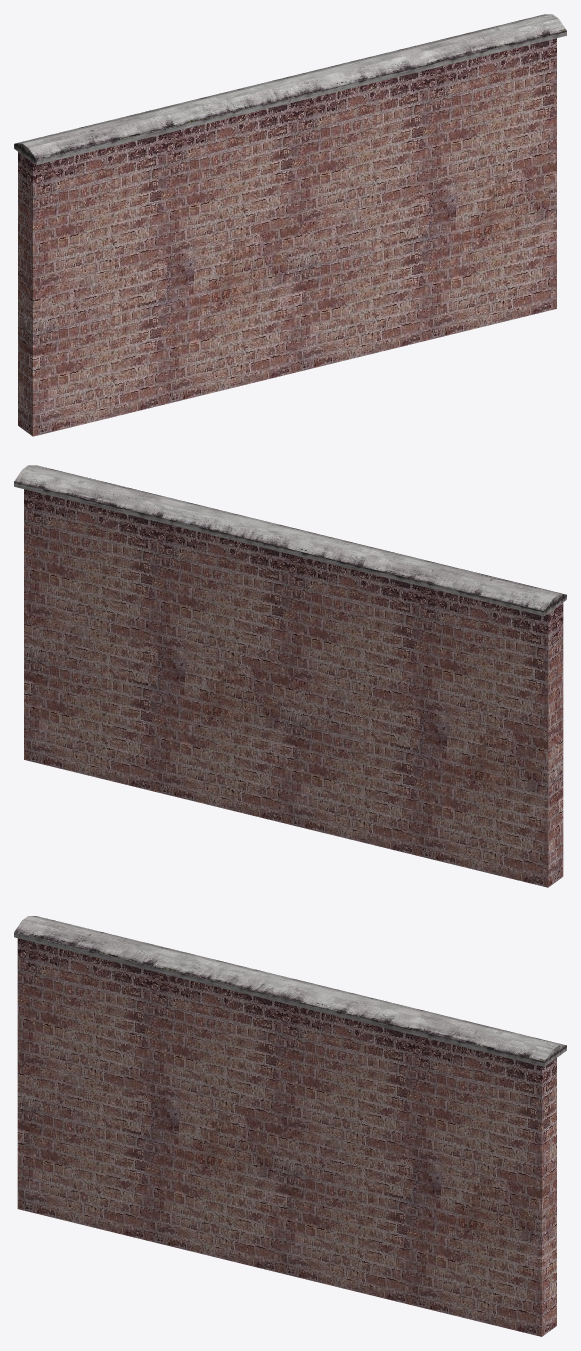
File: lf_brick_wall_one_overhang.glb
3 renders of one model, top to bottom at view 1: azimuth 30°, elevation 25°; view 2: azimuth 150°, elevation 25°; view 3: azimuth 330°, elevation 25°, orthographic.
Visible parts, largest first — view 1: brick_wall_one_overhang; view 2: brick_wall_one_overhang; view 3: brick_wall_one_overhang.
Boxes of the visible parts, x1,y1,x2,y2 form: brick_wall_one_overhang: (14,14,566,436); brick_wall_one_overhang: (14,465,566,887); brick_wall_one_overhang: (14,916,566,1336).
Size of the model in its own units: 4.05 by 2.08 by 0.2995.
2 materials, 2 textured.
